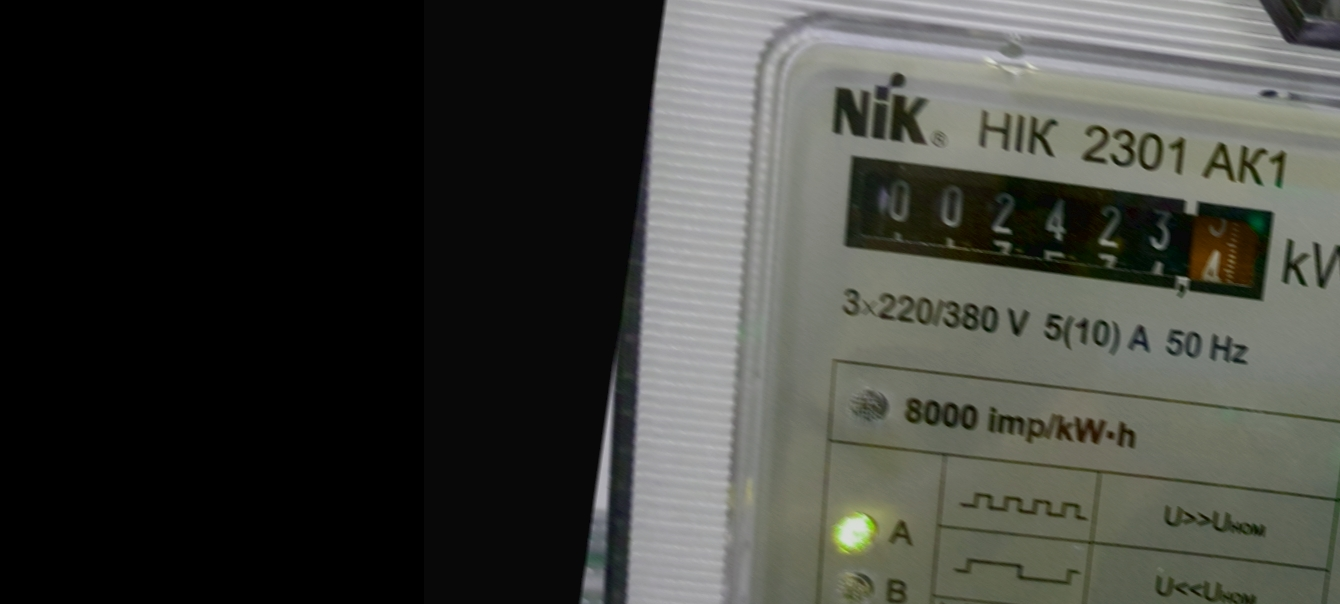0: (885, 173, 918, 224), (938, 180, 969, 228)
2: (989, 186, 1021, 236), (1096, 201, 1125, 249)
3: (1147, 204, 1177, 252), (1207, 212, 1231, 238)
4: (1043, 193, 1072, 242), (1199, 243, 1229, 284)
screen: (829, 138, 1291, 318)
